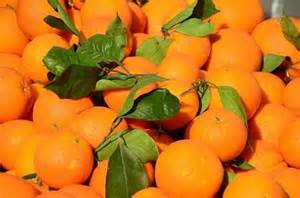orange: (30, 129, 99, 186), (186, 108, 251, 161)
